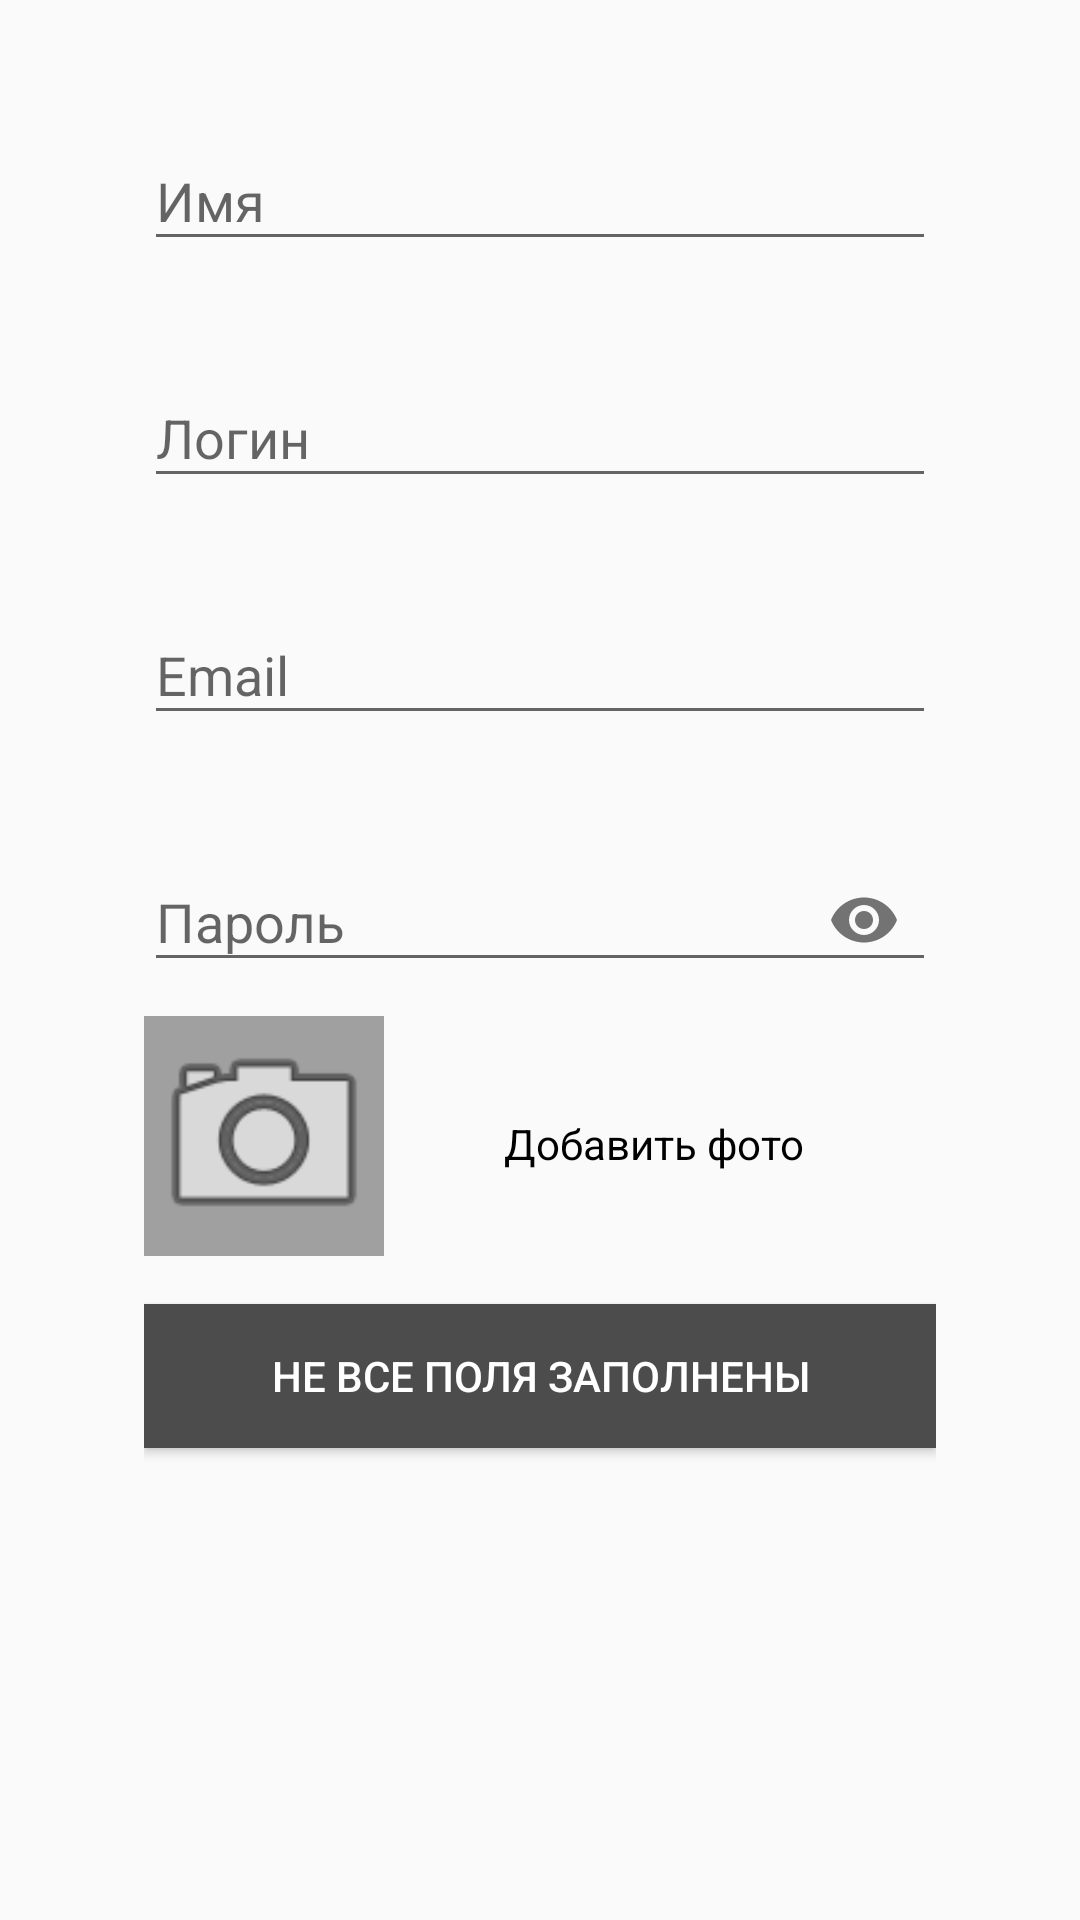

Icons on this 1080 × 1920 Android screen, each with its box as bbox=[x1, y1, x2, y2]:
camera: bbox=[144, 1016, 384, 1256]
